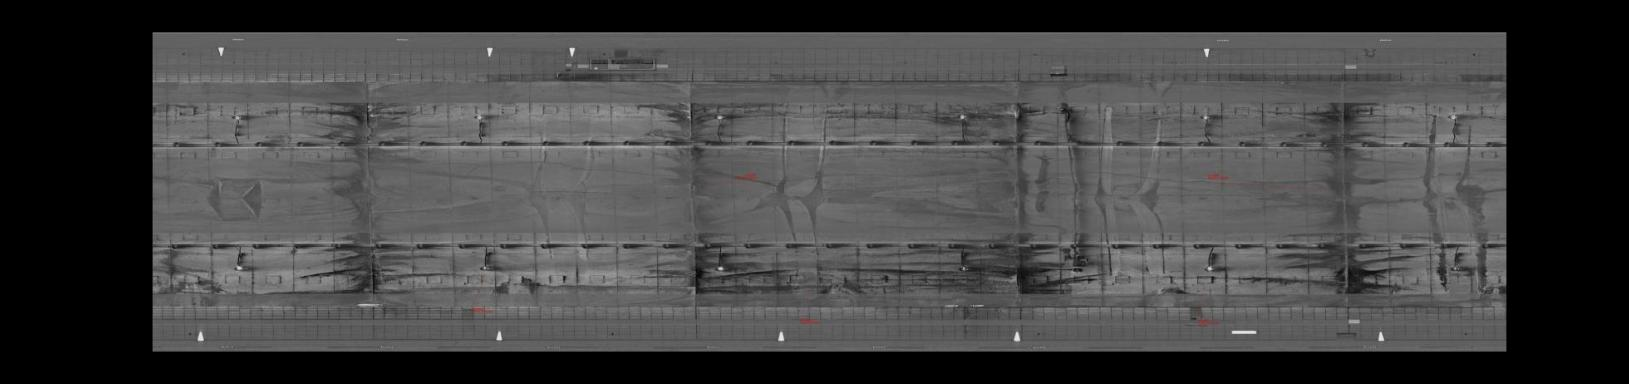light: (229, 262, 247, 275), (1194, 112, 1216, 124), (476, 262, 495, 274), (226, 110, 246, 121), (709, 112, 730, 121), (711, 263, 727, 274), (1444, 111, 1461, 122), (1202, 262, 1218, 273), (1448, 262, 1464, 273), (472, 112, 490, 121), (953, 113, 970, 122), (953, 265, 972, 272)
